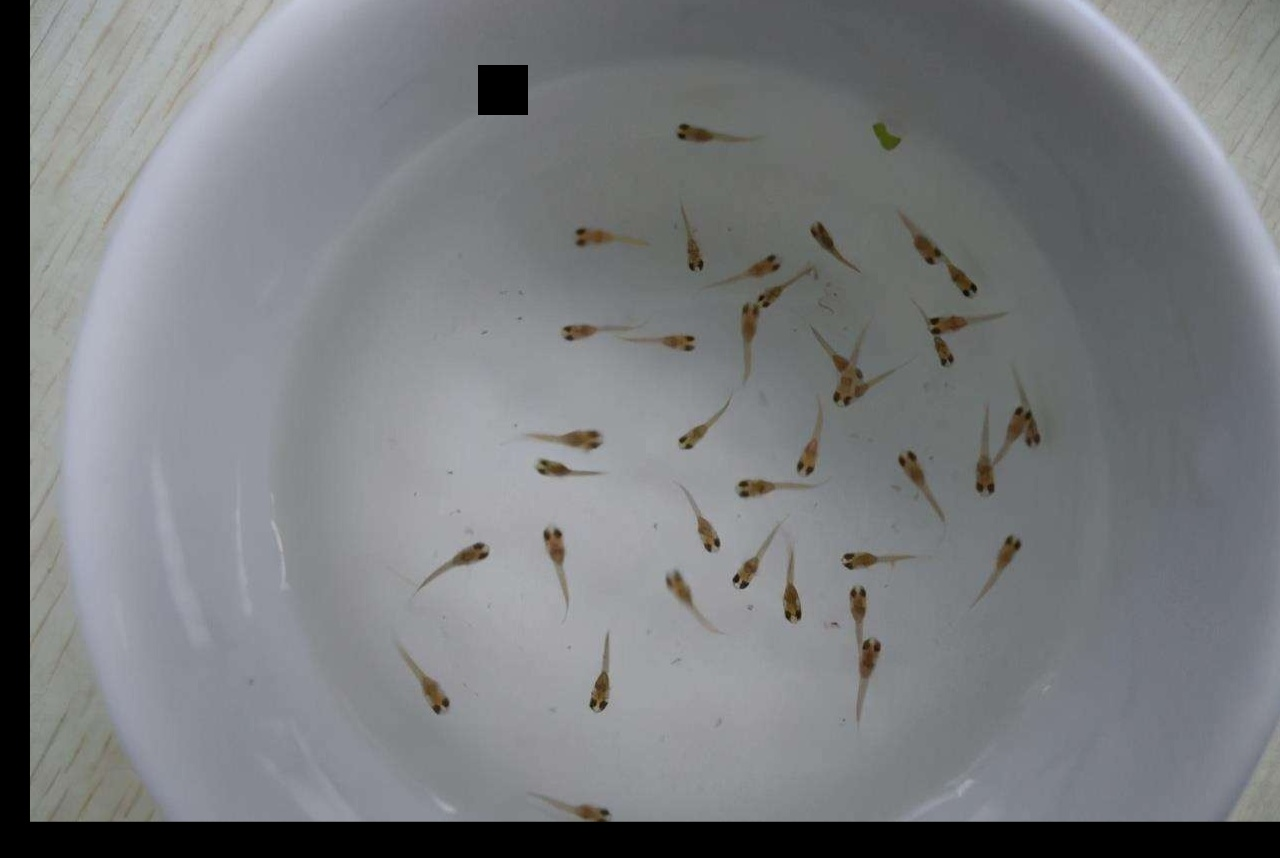fry: (579, 633, 629, 726), (388, 649, 453, 716), (671, 487, 727, 563), (664, 110, 765, 151), (888, 441, 944, 509), (657, 556, 714, 622), (564, 213, 649, 256), (419, 535, 495, 581), (713, 467, 803, 505), (534, 513, 575, 595), (537, 308, 630, 344), (803, 212, 861, 268), (898, 209, 952, 268), (538, 783, 621, 821), (984, 524, 1025, 598), (919, 304, 1010, 337), (972, 406, 1002, 505), (665, 401, 718, 456), (733, 295, 764, 383), (786, 413, 825, 482), (831, 576, 873, 640), (522, 454, 608, 485), (727, 525, 764, 595), (673, 213, 710, 282), (521, 425, 607, 454), (999, 394, 1030, 471), (1021, 397, 1056, 459), (780, 555, 807, 631), (646, 321, 704, 356), (727, 248, 784, 283), (837, 544, 903, 574), (941, 256, 981, 304), (853, 631, 880, 702), (808, 328, 850, 372), (926, 337, 960, 372), (825, 380, 857, 410)
